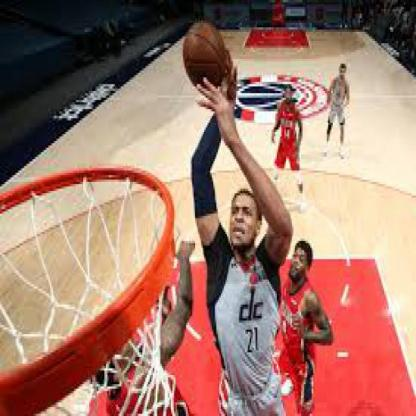basketball: (181, 21, 227, 94)
rim: (0, 164, 179, 414)
